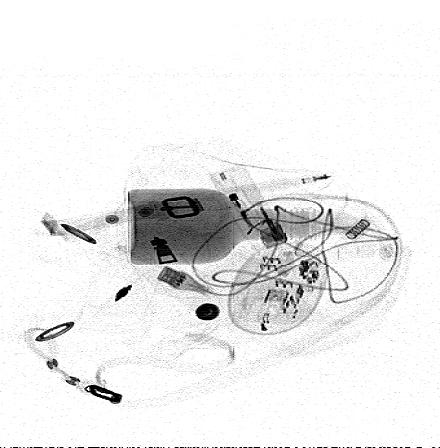Lighter: (210, 164, 289, 252)
